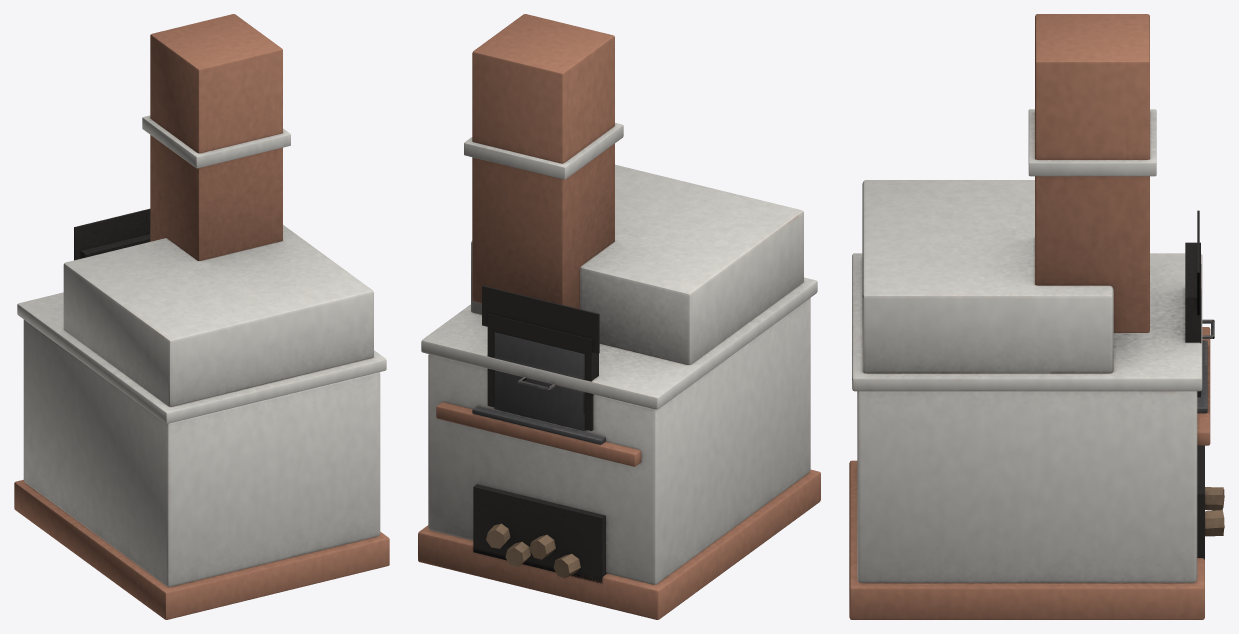
The model's file is russian_stove.glb.
3 views of the same model, side by side, from view 1: azimuth 30°, elevation 25°; view 2: azimuth 150°, elevation 25°; view 3: azimuth 270°, elevation 25° (orthographic). The views are drawn at different scales.
Visible parts, largest first — view 1: russian_stove; view 2: russian_stove; view 3: russian_stove.
Boxes of the visible parts, x1,y1,x2,y2 form: russian_stove: (14,14,389,619); russian_stove: (418,14,820,619); russian_stove: (849,14,1224,619).
Size of the model in its own units: 1.16 by 2.29 by 1.43.
1 material, 1 textured.
